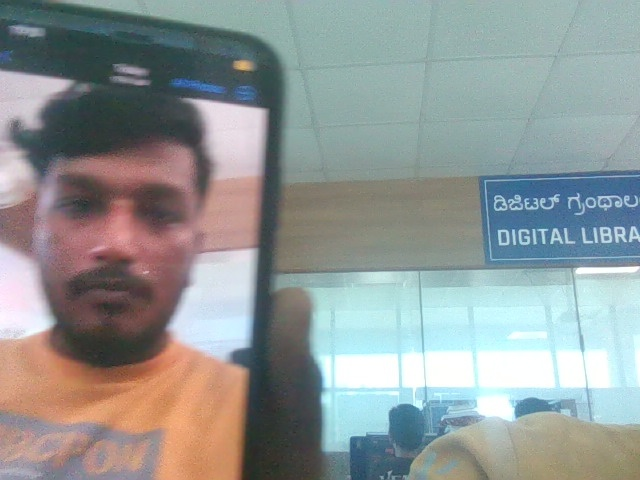fake: (10, 53, 235, 372)
